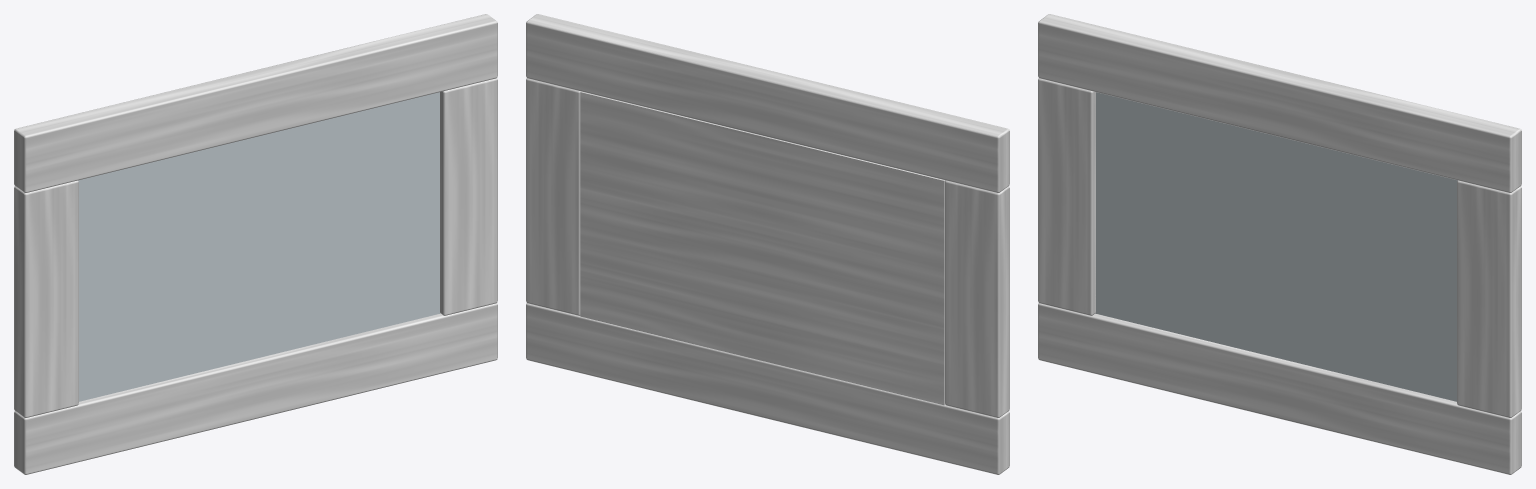
File: espejo-marco-negro.glb
The picture shows the model from 3 angles, left to right: view 1: azimuth 30°, elevation 25°; view 2: azimuth 150°, elevation 25°; view 3: azimuth 330°, elevation 25°; orthographic projection.
Parts seen in each view (by area): view 1: espejo-marco-negro; view 2: espejo-marco-negro; view 3: espejo-marco-negro.
Part boxes in pixels (x1,y1,x2,y2): espejo-marco-negro: (14, 14, 497, 474); espejo-marco-negro: (526, 14, 1009, 474); espejo-marco-negro: (1038, 14, 1521, 474).
Size of the model in its own units: 0.95 by 0.65 by 0.04.
Materials: 2 (1 with a texture image).
